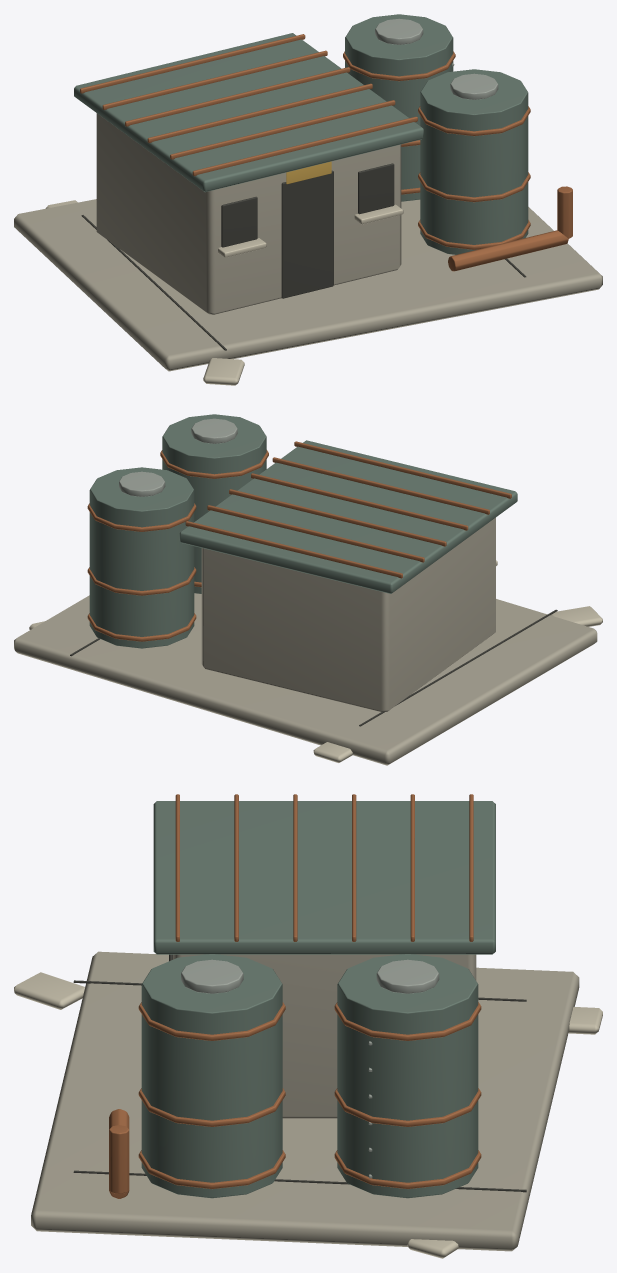
Rendered from RoadPumpStation.glb.
3 views of the same model, one above another, from view 1: azimuth 30°, elevation 25°; view 2: azimuth 150°, elevation 25°; view 3: azimuth 270°, elevation 25° (orthographic). The views are drawn at different scales.
Parts seen in each view (by area): view 1: Sand buried service pad, Concrete service hut, Overhanging roof, Banded reservoir, Banded reservoir.001, Service door recess, Feeder pipe, Dust-dark glazing, Dust-dark glazing.001, Standing roof seam.001, Standing roof seam.005, Standing roof seam.003 (+14 smaller); view 2: Concrete service hut, Sand buried service pad, Overhanging roof, Banded reservoir.001, Banded reservoir, Standing roof seam.001, Standing roof seam.002, Standing roof seam.003, Standing roof seam.004, Standing roof seam, Standing roof seam.005, Inspection lid (+8 smaller); view 3: Sand buried service pad, Overhanging roof, Banded reservoir, Banded reservoir.001, Concrete service hut, Inspection lid.001, Inspection lid, Broken apron slab, Rising pipe, Reservoir reinforcing band, Reservoir reinforcing band.003, Reservoir reinforcing band.002 (+11 smaller).
Boxes of the visible parts, x1,y1,x2,y2 form: Sand buried service pad: (14, 199, 602, 371); Concrete service hut: (96, 113, 401, 314); Overhanging roof: (74, 33, 423, 192); Banded reservoir: (420, 69, 528, 254); Banded reservoir.001: (345, 14, 453, 201); Service door recess: (281, 170, 333, 298); Feeder pipe: (448, 230, 568, 271); Dust-dark glazing: (221, 196, 257, 247); Dust-dark glazing.001: (358, 163, 394, 214); Standing roof seam.001: (170, 100, 395, 159); Standing roof seam.005: (80, 34, 305, 93); Standing roof seam.003: (125, 67, 350, 126); Concrete service hut: (201, 517, 495, 711); Sand buried service pad: (14, 593, 597, 765); Overhanging roof: (179, 440, 517, 593); Banded reservoir.001: (89, 467, 194, 648); Banded reservoir: (162, 414, 266, 593); Standing roof seam.001: (272, 457, 489, 514); Standing roof seam.002: (251, 473, 468, 530); Standing roof seam.003: (229, 489, 446, 546); Standing roof seam.004: (207, 505, 424, 562); Standing roof seam: (294, 441, 511, 498); Standing roof seam.005: (185, 521, 402, 578); Inspection lid: (191, 418, 237, 443); Sand buried service pad: (31, 951, 579, 1251); Overhanging roof: (153, 801, 495, 954); Banded reservoir: (141, 954, 282, 1198); Banded reservoir.001: (337, 954, 478, 1198); Concrete service hut: (173, 954, 476, 1118); Inspection lid.001: (376, 959, 439, 993); Inspection lid: (181, 959, 243, 993); Broken apron slab: (14, 972, 84, 1009); Rising pipe: (109, 1125, 129, 1193); Reservoir reinforcing band: (138, 1150, 285, 1189); Reservoir reinforcing band.003: (334, 1150, 481, 1188); Reservoir reinforcing band.002: (138, 1002, 285, 1040).
Size of the model in its own units: 7.01 by 2.51 by 6.02.
